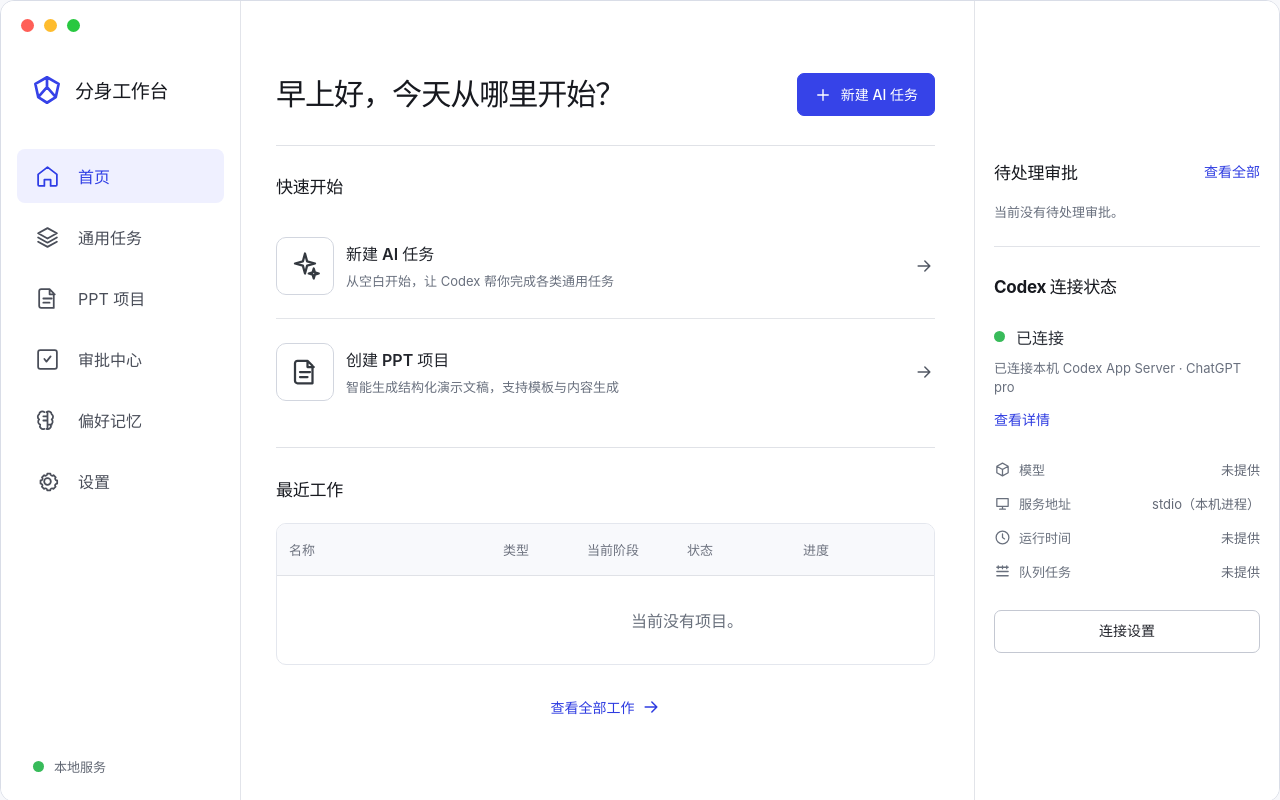
it: shared Codex connection UI › replaces the dashboard placeholder after the startup read and keeps settings consistent
Expected: the text "已连接" is shown, x1=994 y1=328 x2=1064 y2=348
Expected: the text "stdio（本机进程）" is shown, x1=1152 y1=496 x2=1260 y2=512
Click the link "设置": [94, 482] box x1=35 y1=468 x2=110 y2=494
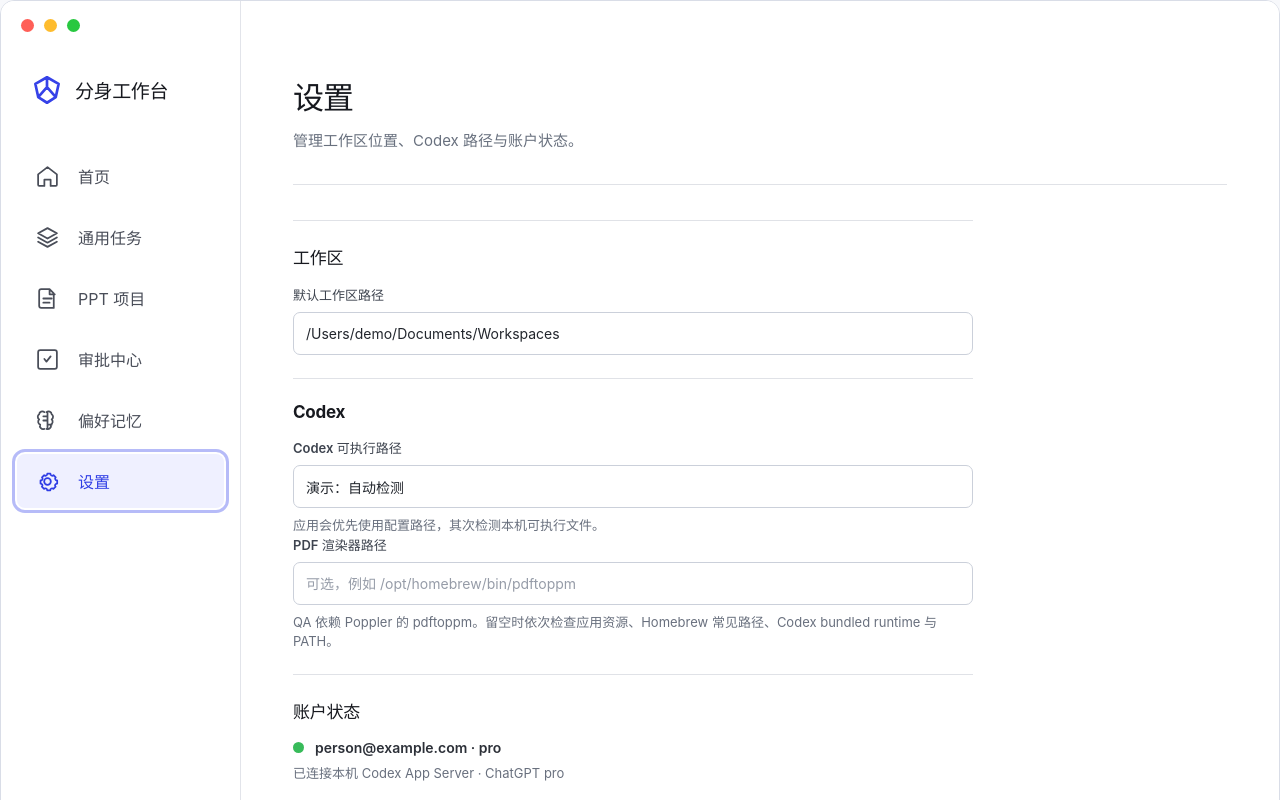
Expected: the text "已连接本机 Codex App Server · ChatGPT pro" is shown, x1=293 y1=764 x2=564 y2=780
Now the text "person@example.com · pro" is shown, box x1=293 y1=738 x2=501 y2=756
